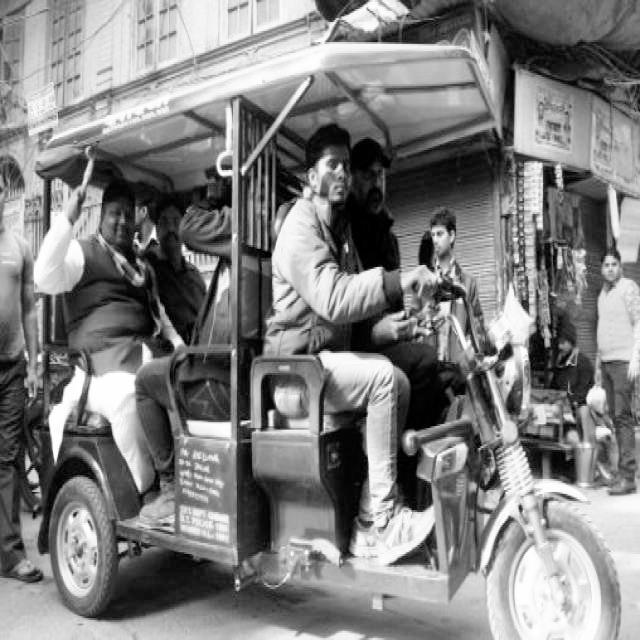Toto: (40, 42, 567, 632)
